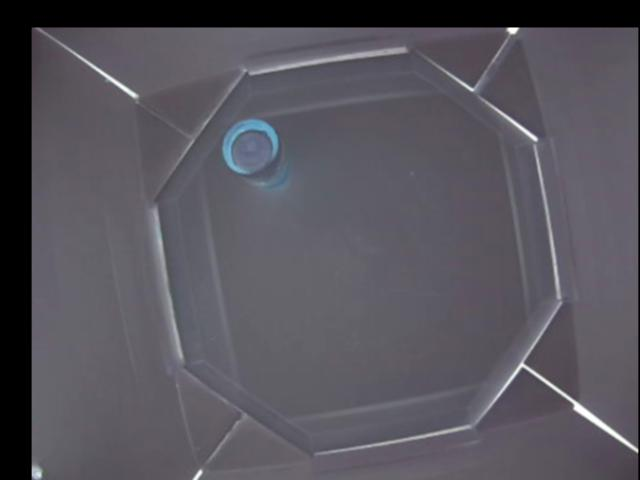Bottle: (218, 117, 288, 189)
